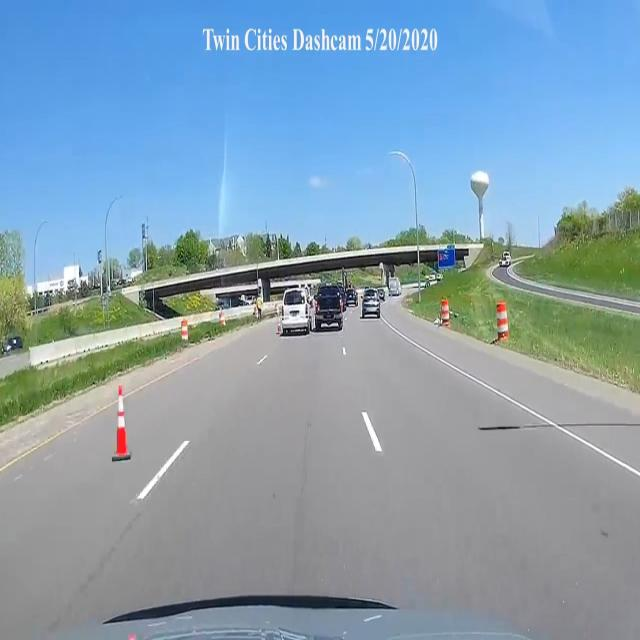Traffic Cone: (108, 382, 136, 462)
